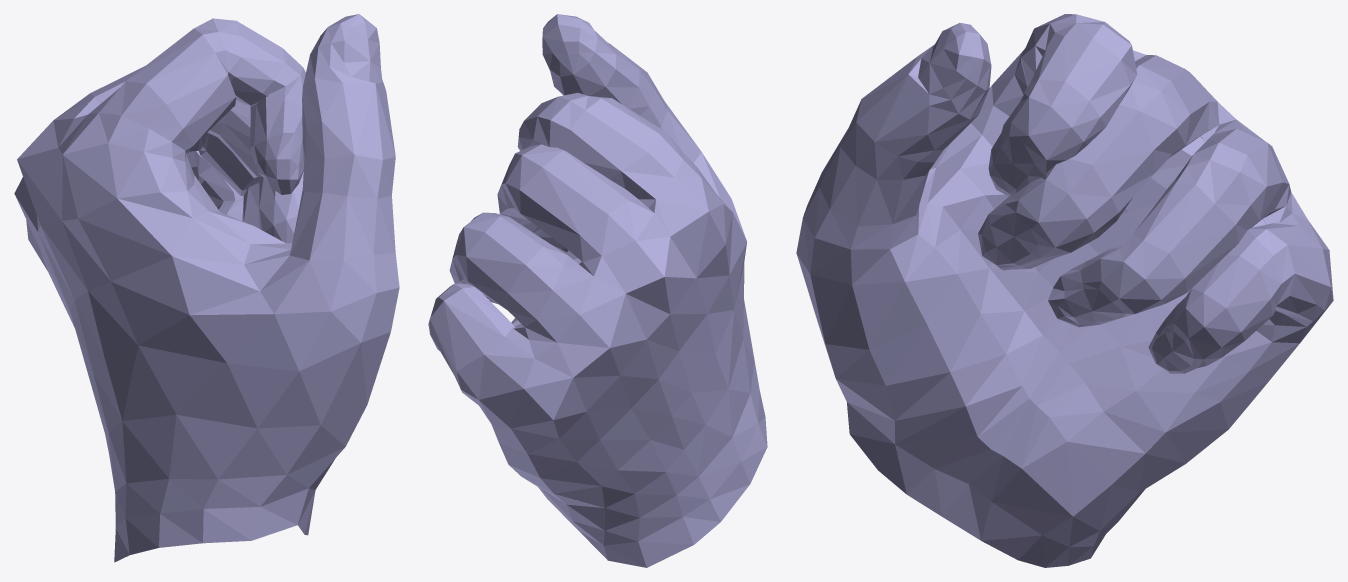
File: frame_0052_source_000052_hand.glb
3 views of the same model, side by side, from view 1: azimuth 30°, elevation 25°; view 2: azimuth 150°, elevation 25°; view 3: azimuth 270°, elevation 25° (orthographic). The views are drawn at different scales.
Parts seen in each view (by area): view 1: world; view 2: world; view 3: world.
Part boxes in pixels (bbox=[...]): world: bbox=[14, 14, 399, 562]; world: bbox=[428, 14, 767, 567]; world: bbox=[796, 14, 1333, 567].
Size of the model in its own units: 0.0608 by 0.1216 by 0.1008.
